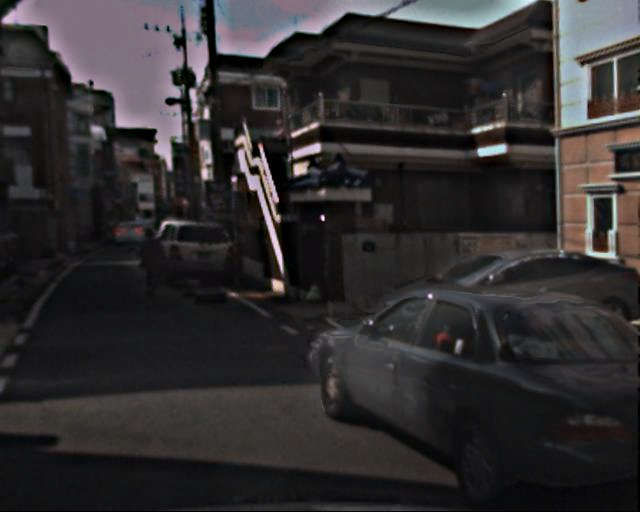person: (135, 225, 165, 299)
